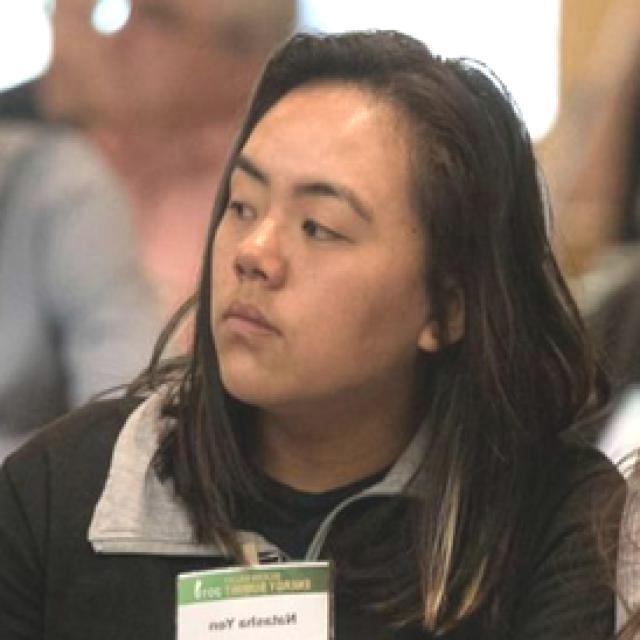Looking forward: (204, 84, 442, 412)
